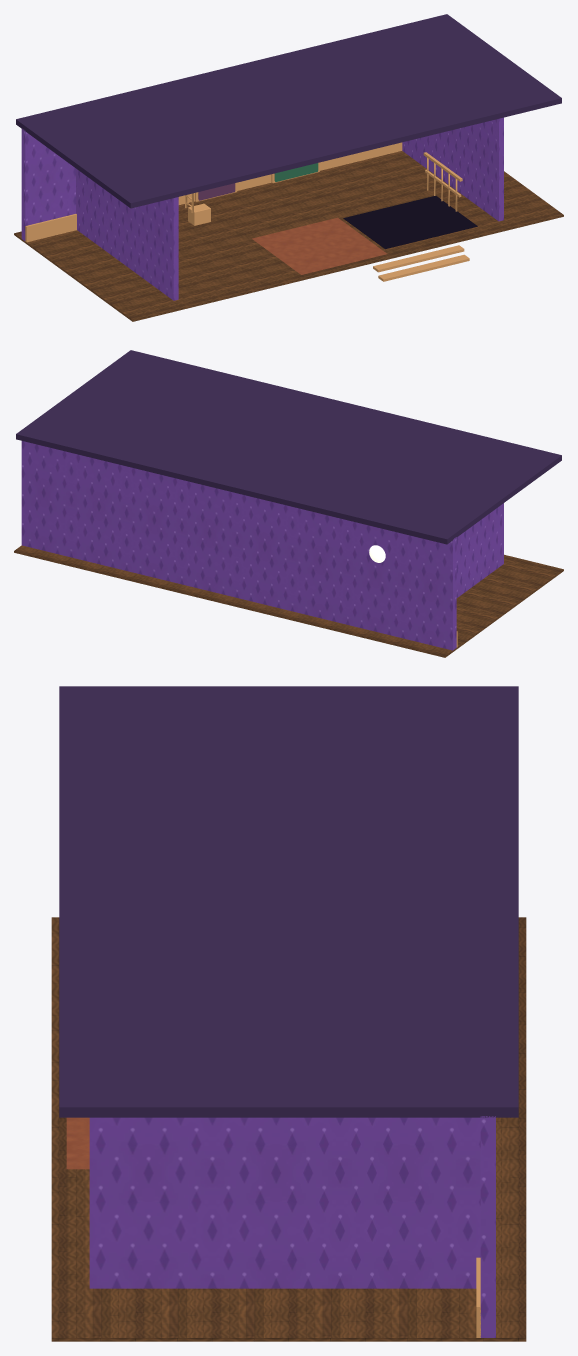
File: stockwerk.glb
3 views of the same model, one above another, from view 1: azimuth 30°, elevation 25°; view 2: azimuth 150°, elevation 25°; view 3: azimuth 270°, elevation 25° (orthographic). The views are drawn at different scales.
Parts seen in each view (by area): view 1: Decke.001, Boden.004, Seitenwand-1.001, Seitenwand1.001, Teppich.001, WandHinten.001, Treppenloch.001, SockelHinten.001, Treppe6.001, Treppe5.001, TuerGruen.001, Nachttisch.001; view 2: Decke.001, WandHinten.001, Boden.004, Seitenwand-1.001; view 3: Decke.001, Seitenwand1.001, Boden.004, WandHinten.001, Teppich.001.
Part boxes in pixels (bbox=[...]): Decke.001: bbox=[16, 14, 561, 208]; Boden.004: bbox=[14, 151, 563, 321]; Seitenwand-1.001: bbox=[76, 168, 178, 300]; Seitenwand1.001: bbox=[402, 117, 503, 221]; Teppich.001: bbox=[252, 217, 386, 274]; WandHinten.001: bbox=[21, 128, 75, 240]; Treppenloch.001: bbox=[343, 196, 477, 249]; SockelHinten.001: bbox=[25, 142, 402, 242]; Treppe6.001: bbox=[378, 254, 469, 281]; Treppe5.001: bbox=[373, 245, 464, 272]; TuerGruen.001: bbox=[274, 163, 318, 181]; Nachttisch.001: bbox=[188, 203, 210, 225]; Decke.001: bbox=[16, 350, 561, 544]; WandHinten.001: bbox=[21, 441, 456, 650]; Boden.004: bbox=[14, 545, 563, 657]; Seitenwand-1.001: bbox=[456, 503, 503, 597]; Decke.001: bbox=[59, 686, 518, 1117]; Seitenwand1.001: bbox=[89, 1117, 480, 1288]; Boden.004: bbox=[51, 917, 526, 1341]; WandHinten.001: bbox=[480, 1116, 495, 1337]; Teppich.001: bbox=[66, 1117, 89, 1169].
Size of the model in its own units: 26 by 8.79 by 12.4.
19 materials, 3 textured.
